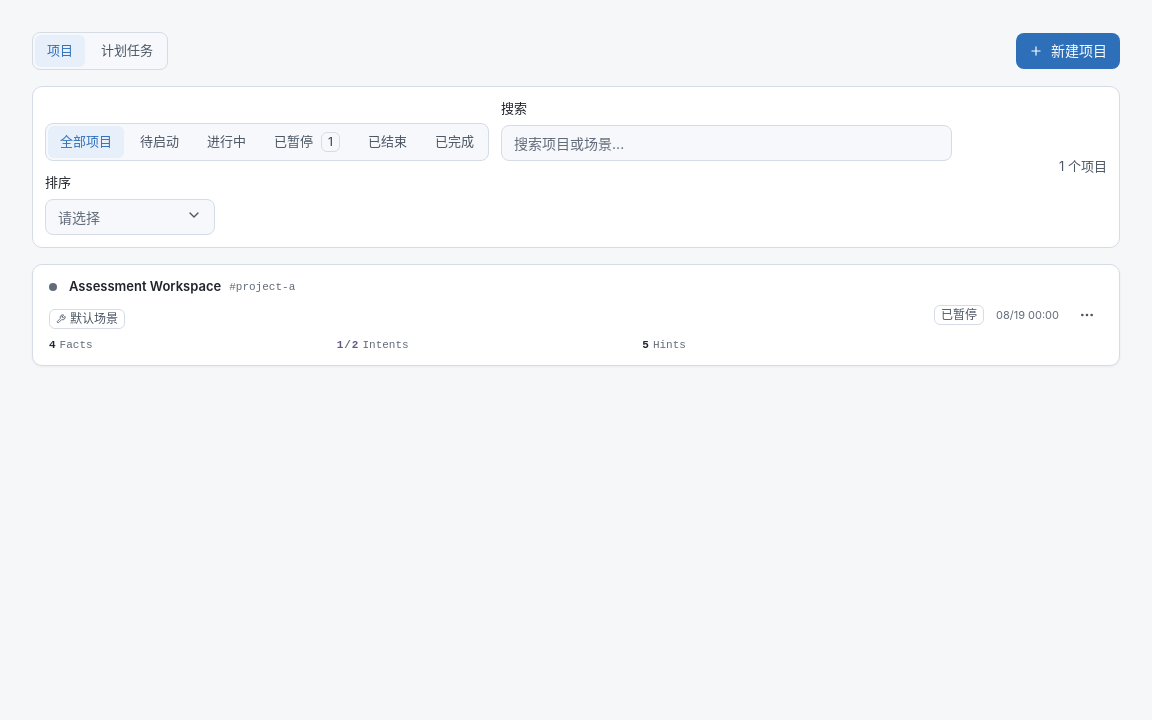
Test: Projects shared control migration › submits resume despite a failed state query and displays the server rejection
Click the button named "项目操作菜单".
click(1087, 315)  # box [1071,299,1103,331]
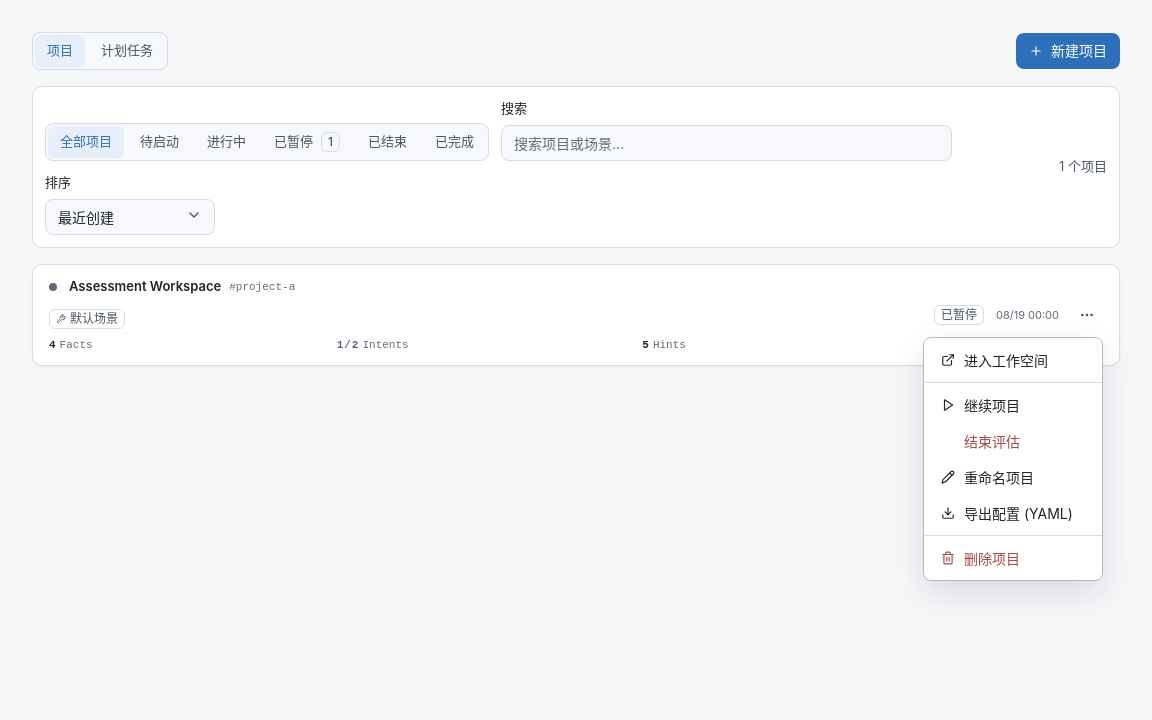
Click the menu item "继续项目".
click(980, 405)  # box [941,396,1020,414]
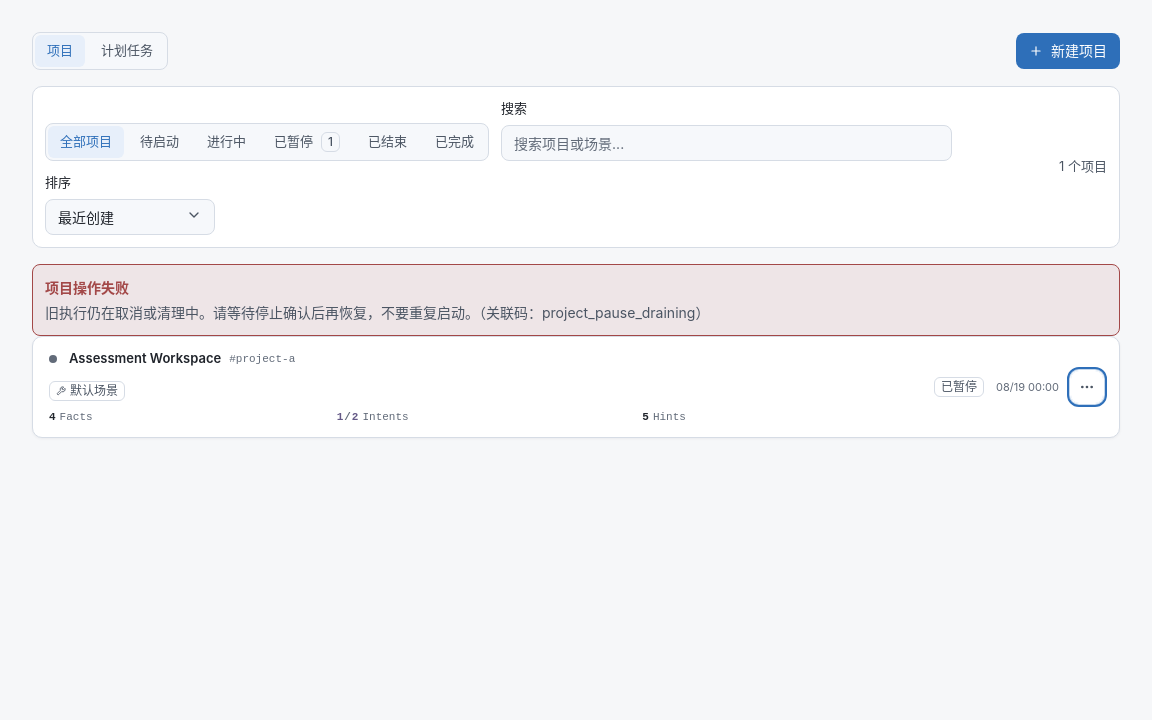
Expected: the text "项目操作失败" is shown, [45,279,129,296]
Expected: the text "旧执行仍在取消或清理中" is shown, [45,304,709,321]
